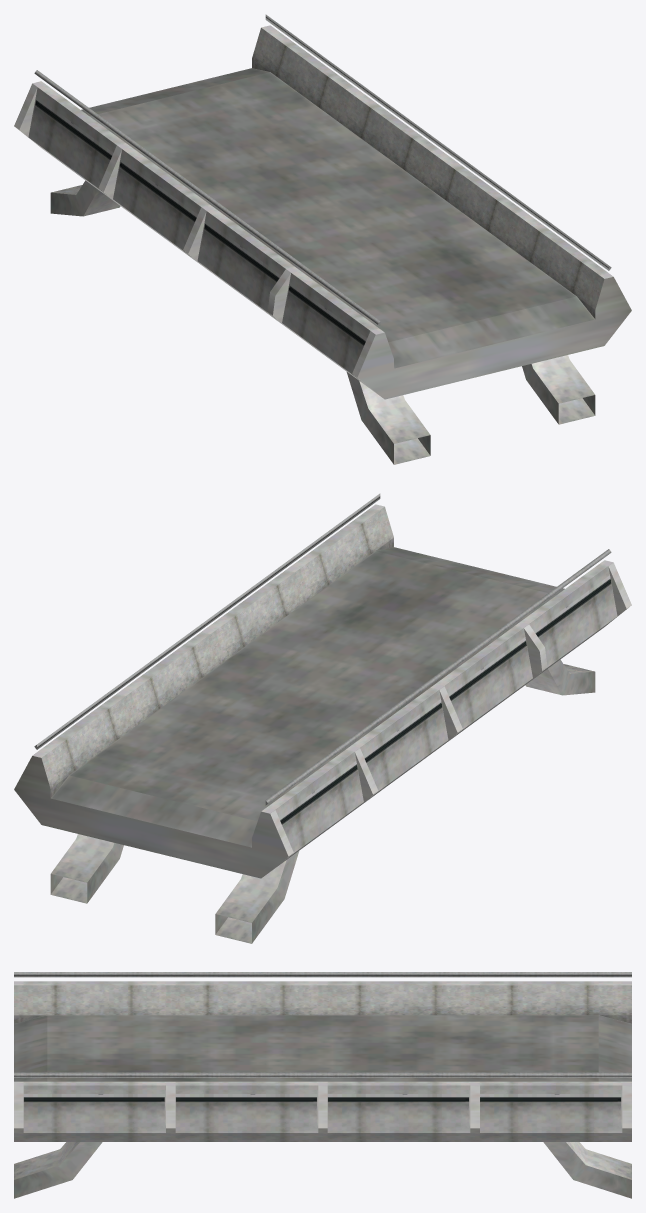
The model's file is thm_corl_imprv_bridge_sm_s01_l2.fbx.
3 views of the same model, one above another, from view 1: azimuth 30°, elevation 25°; view 2: azimuth 150°, elevation 25°; view 3: azimuth 270°, elevation 25° (orthographic). The views are drawn at different scales.
Visible parts, largest first — view 1: mesh_node; view 2: mesh_node; view 3: mesh_node.
Part boxes in pixels (box(x1,y1,x2,y2)): mesh_node: box(14, 14, 631, 464); mesh_node: box(14, 493, 631, 943); mesh_node: box(14, 972, 631, 1198).
Size of the model in its own units: 7.5 by 3.84 by 16.25.
Materials: 1 (1 with a texture image).
